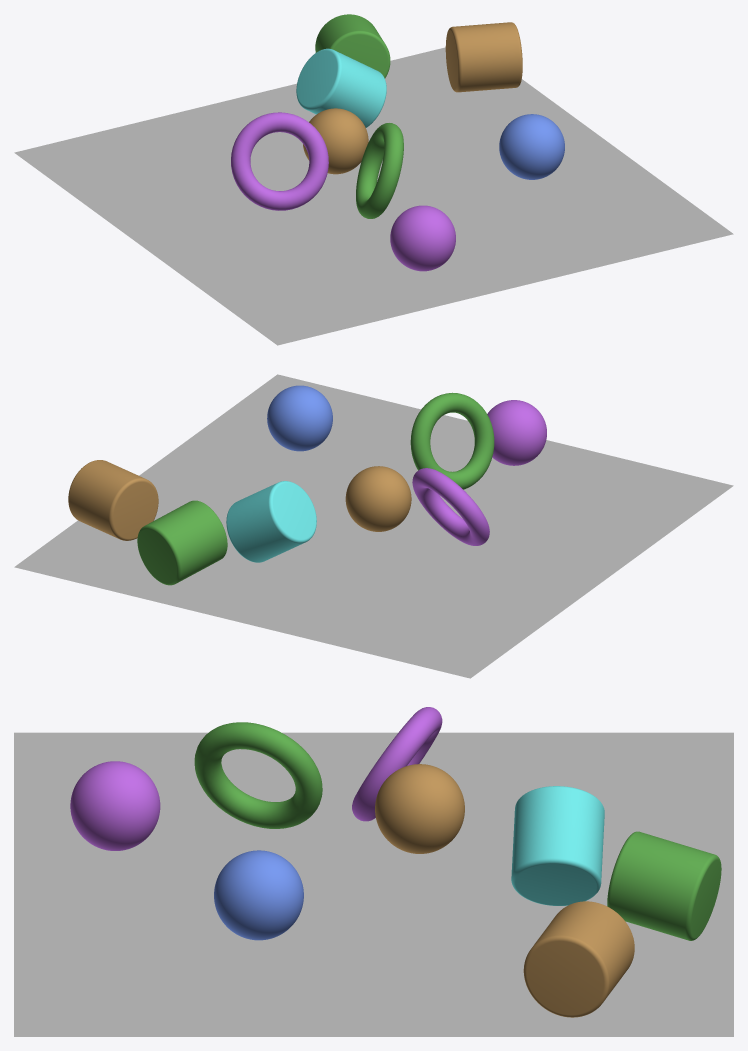
The picture shows the model from 3 angles, top to bottom: view 1: azimuth 30°, elevation 25°; view 2: azimuth 150°, elevation 25°; view 3: azimuth 270°, elevation 25°; orthographic projection. The views are drawn at different scales.
Parts seen in each view (by area): view 1: Cube, FileBasedObject.005, FileBasedObject.004, FileBasedObject.006, FileBasedObject.002, FileBasedObject.003, FileBasedObject.001, FileBasedObject.007, FileBasedObject; view 2: Cube, FileBasedObject.006, FileBasedObject.007, FileBasedObject.004, FileBasedObject.001, FileBasedObject.003, FileBasedObject, FileBasedObject.005, FileBasedObject.002; view 3: Cube, FileBasedObject.006, FileBasedObject.004, FileBasedObject.007, FileBasedObject.001, FileBasedObject.003, FileBasedObject.002, FileBasedObject, FileBasedObject.005.
Boxes of the visible parts, <box> form: Cube: <box>14,47,733,345</box>; FileBasedObject.005: <box>231,112,328,210</box>; FileBasedObject.004: <box>445,22,522,92</box>; FileBasedObject.006: <box>296,48,386,127</box>; FileBasedObject.002: <box>390,205,455,271</box>; FileBasedObject.003: <box>499,114,564,179</box>; FileBasedObject.001: <box>356,123,403,218</box>; FileBasedObject.007: <box>315,14,390,78</box>; FileBasedObject: <box>303,108,368,174</box>; Cube: <box>14,374,733,678</box>; FileBasedObject.006: <box>226,481,316,562</box>; FileBasedObject.007: <box>137,500,227,585</box>; FileBasedObject.004: <box>68,460,158,540</box>; FileBasedObject.001: <box>410,392,494,489</box>; FileBasedObject.003: <box>267,385,332,451</box>; FileBasedObject: <box>345,466,411,531</box>; FileBasedObject.005: <box>412,468,489,545</box>; FileBasedObject.002: <box>487,400,546,465</box>; Cube: <box>14,732,733,1036</box>; FileBasedObject.006: <box>511,786,604,905</box>; FileBasedObject.004: <box>523,901,634,1017</box>; FileBasedObject.007: <box>607,831,721,940</box>; FileBasedObject.001: <box>194,722,322,828</box>; FileBasedObject.003: <box>214,850,303,940</box>; FileBasedObject.002: <box>70,761,160,850</box>; FileBasedObject: <box>375,764,464,853</box>; FileBasedObject.005: <box>352,707,442,821</box>.
Bounding box in the file's own units: 8 × 1.76 × 8.
